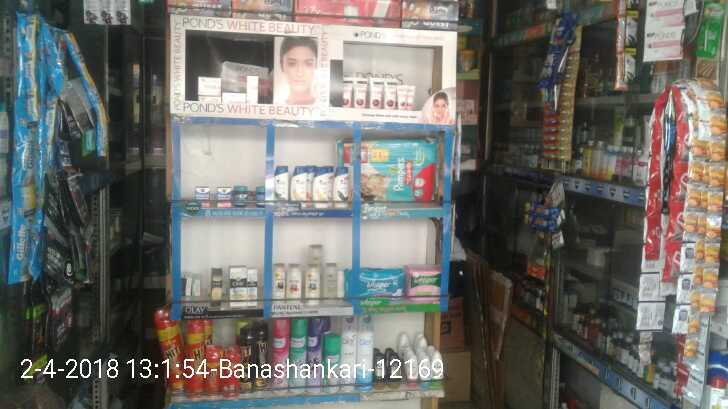vicks: (232, 185, 248, 207), (216, 185, 232, 207), (195, 185, 208, 208), (254, 186, 266, 207)
